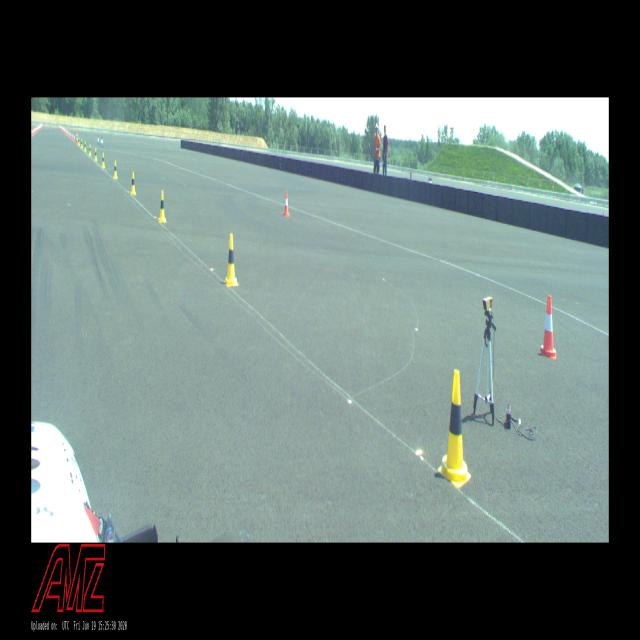large_orange_cone: (76, 132, 77, 140)
orange_cone: (540, 295, 556, 360), (283, 191, 290, 217), (76, 135, 78, 143), (72, 133, 74, 140), (73, 134, 75, 141), (70, 133, 72, 138)
yellow_cone: (438, 369, 471, 489), (224, 233, 239, 287), (158, 190, 167, 222), (130, 171, 136, 196), (113, 160, 118, 179), (94, 148, 98, 161), (88, 144, 92, 156), (102, 152, 105, 168), (84, 141, 87, 152), (81, 139, 83, 148), (78, 138, 80, 145)
